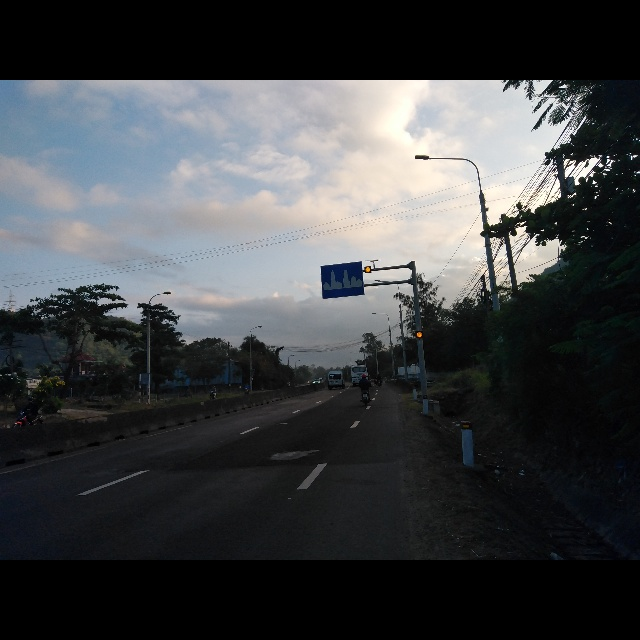Khu đông dân cư: (320, 261, 367, 299)
